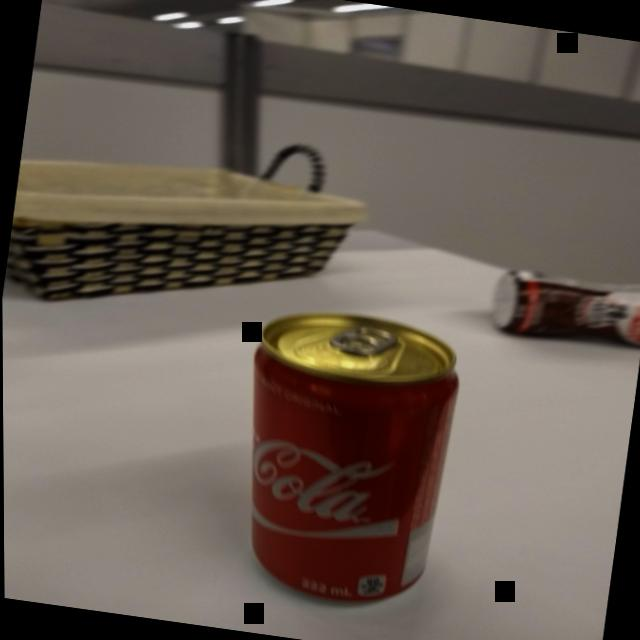coke: (212, 296, 479, 621)
